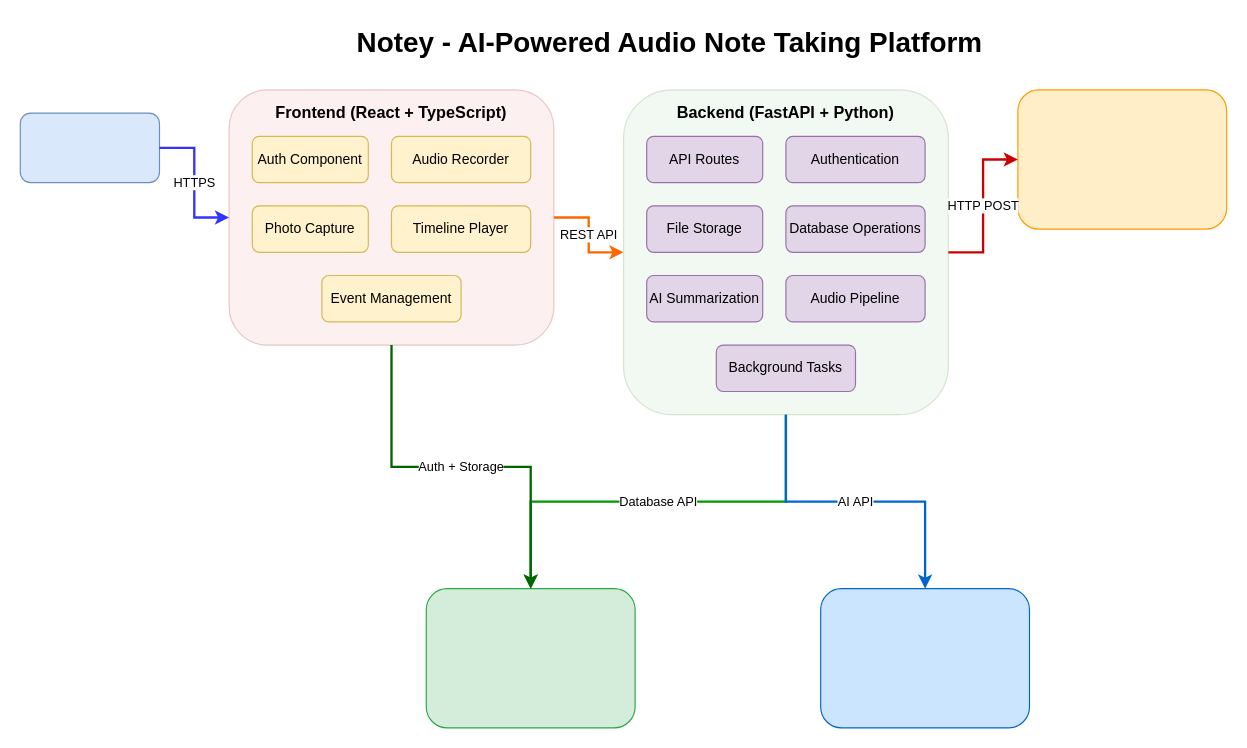
This 1247x748 diagram has some shape labels left out. Each missing label, with the box of its shape:
Google Gemini AI: (820, 588, 1030, 728)
Supabase Platform: (425, 588, 635, 728)
User Interface: (19, 112, 160, 183)
Whisper.cpp Service (Fly.io): (1017, 89, 1227, 229)
